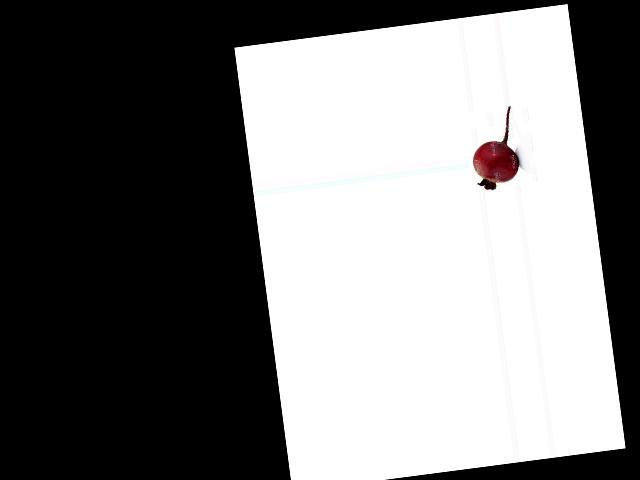beet: (467, 106, 522, 192)
